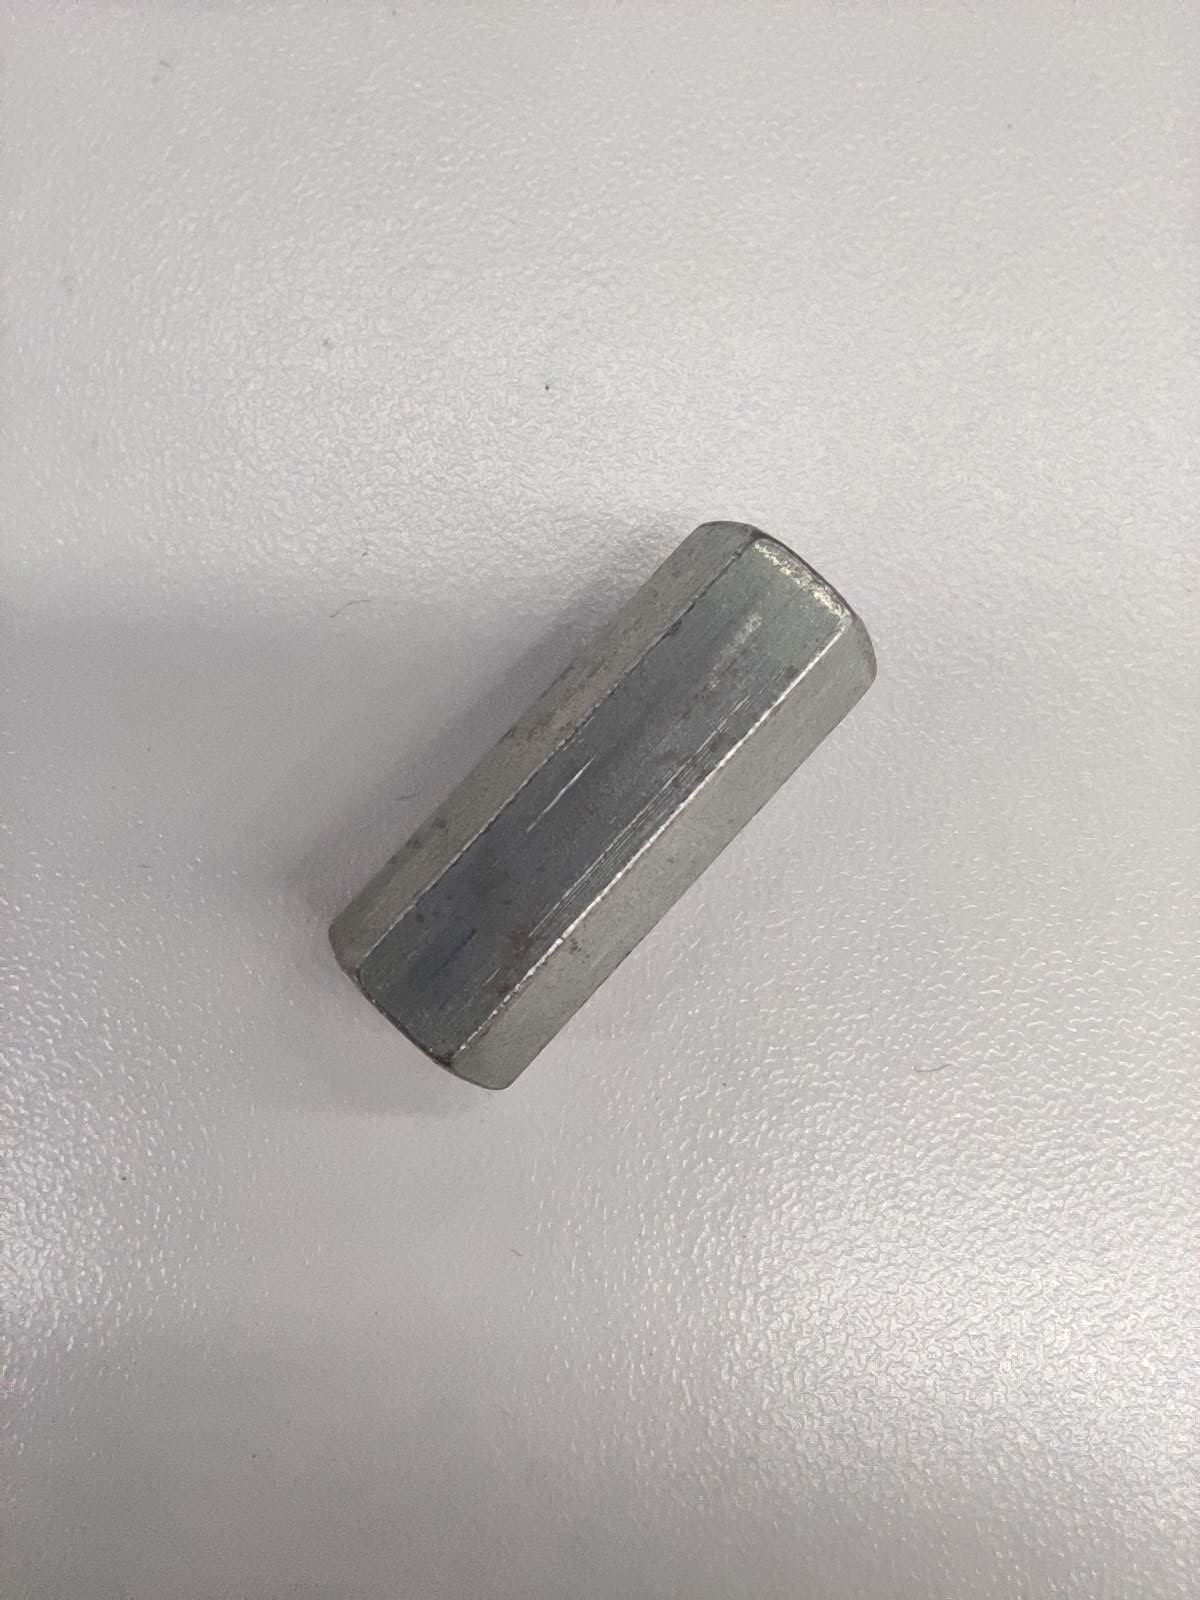吊丝接头: (326, 518, 879, 1091)
